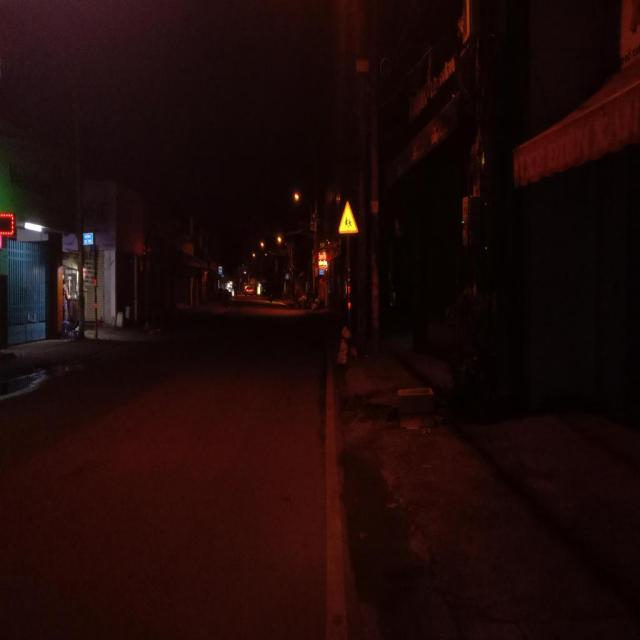chu_y_tre_em: (338, 199, 360, 234)
